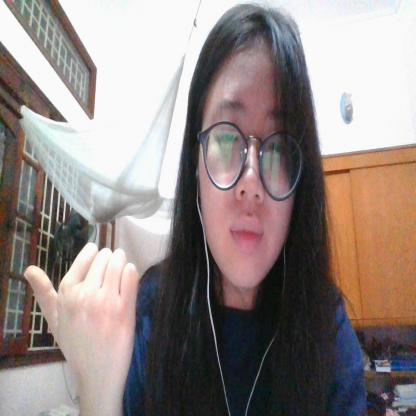right: (23, 235, 139, 375)
